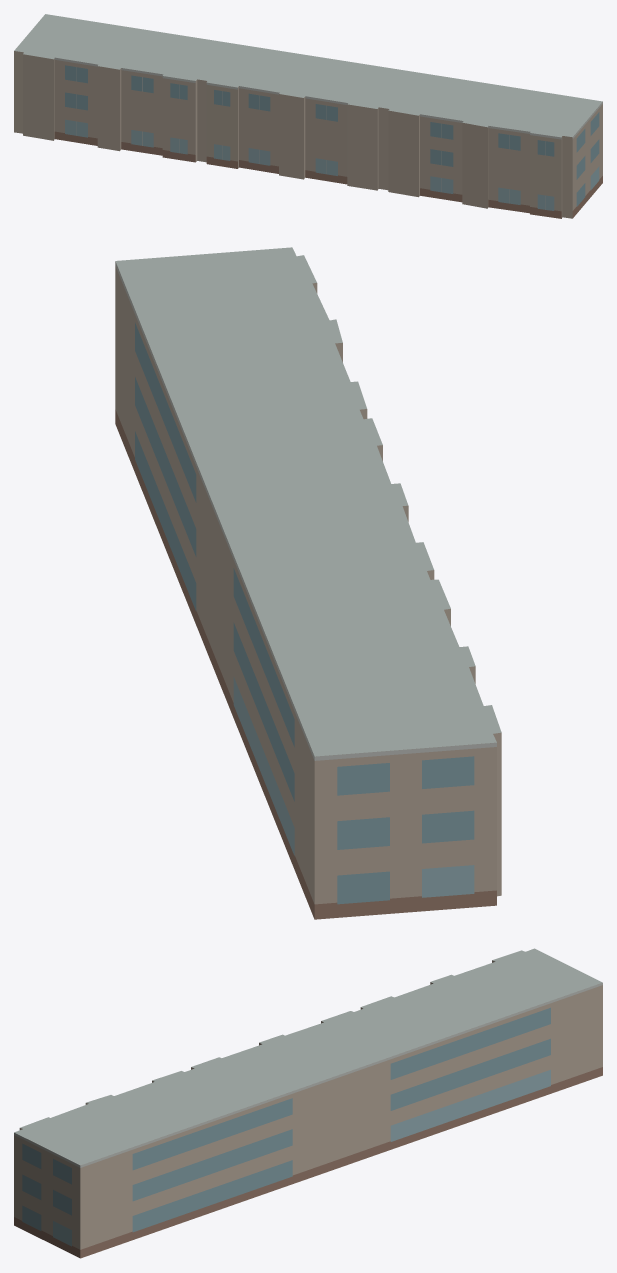
Rendered from survey-upis-32525126.glb.
3 views of the same model, one above another, from view 1: azimuth 30°, elevation 25°; view 2: azimuth 150°, elevation 25°; view 3: azimuth 270°, elevation 25° (orthographic). The views are drawn at different scales.
Parts seen in each view (by area): view 1: survey-upis-32525126.tmp; view 2: survey-upis-32525126.tmp; view 3: survey-upis-32525126.tmp.
Boxes of the visible parts, x1,y1,x2,y2 form: survey-upis-32525126.tmp: [14, 14, 602, 218]; survey-upis-32525126.tmp: [115, 247, 501, 919]; survey-upis-32525126.tmp: [14, 948, 602, 1258].
Bounding box in the file's own units: 45.81 × 9.15 × 52.53.
